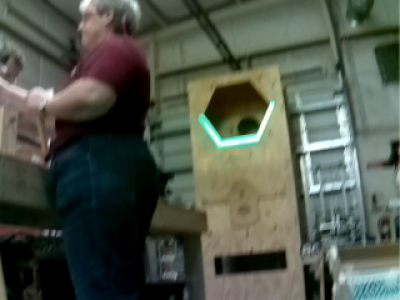target: (198, 101, 277, 150)
